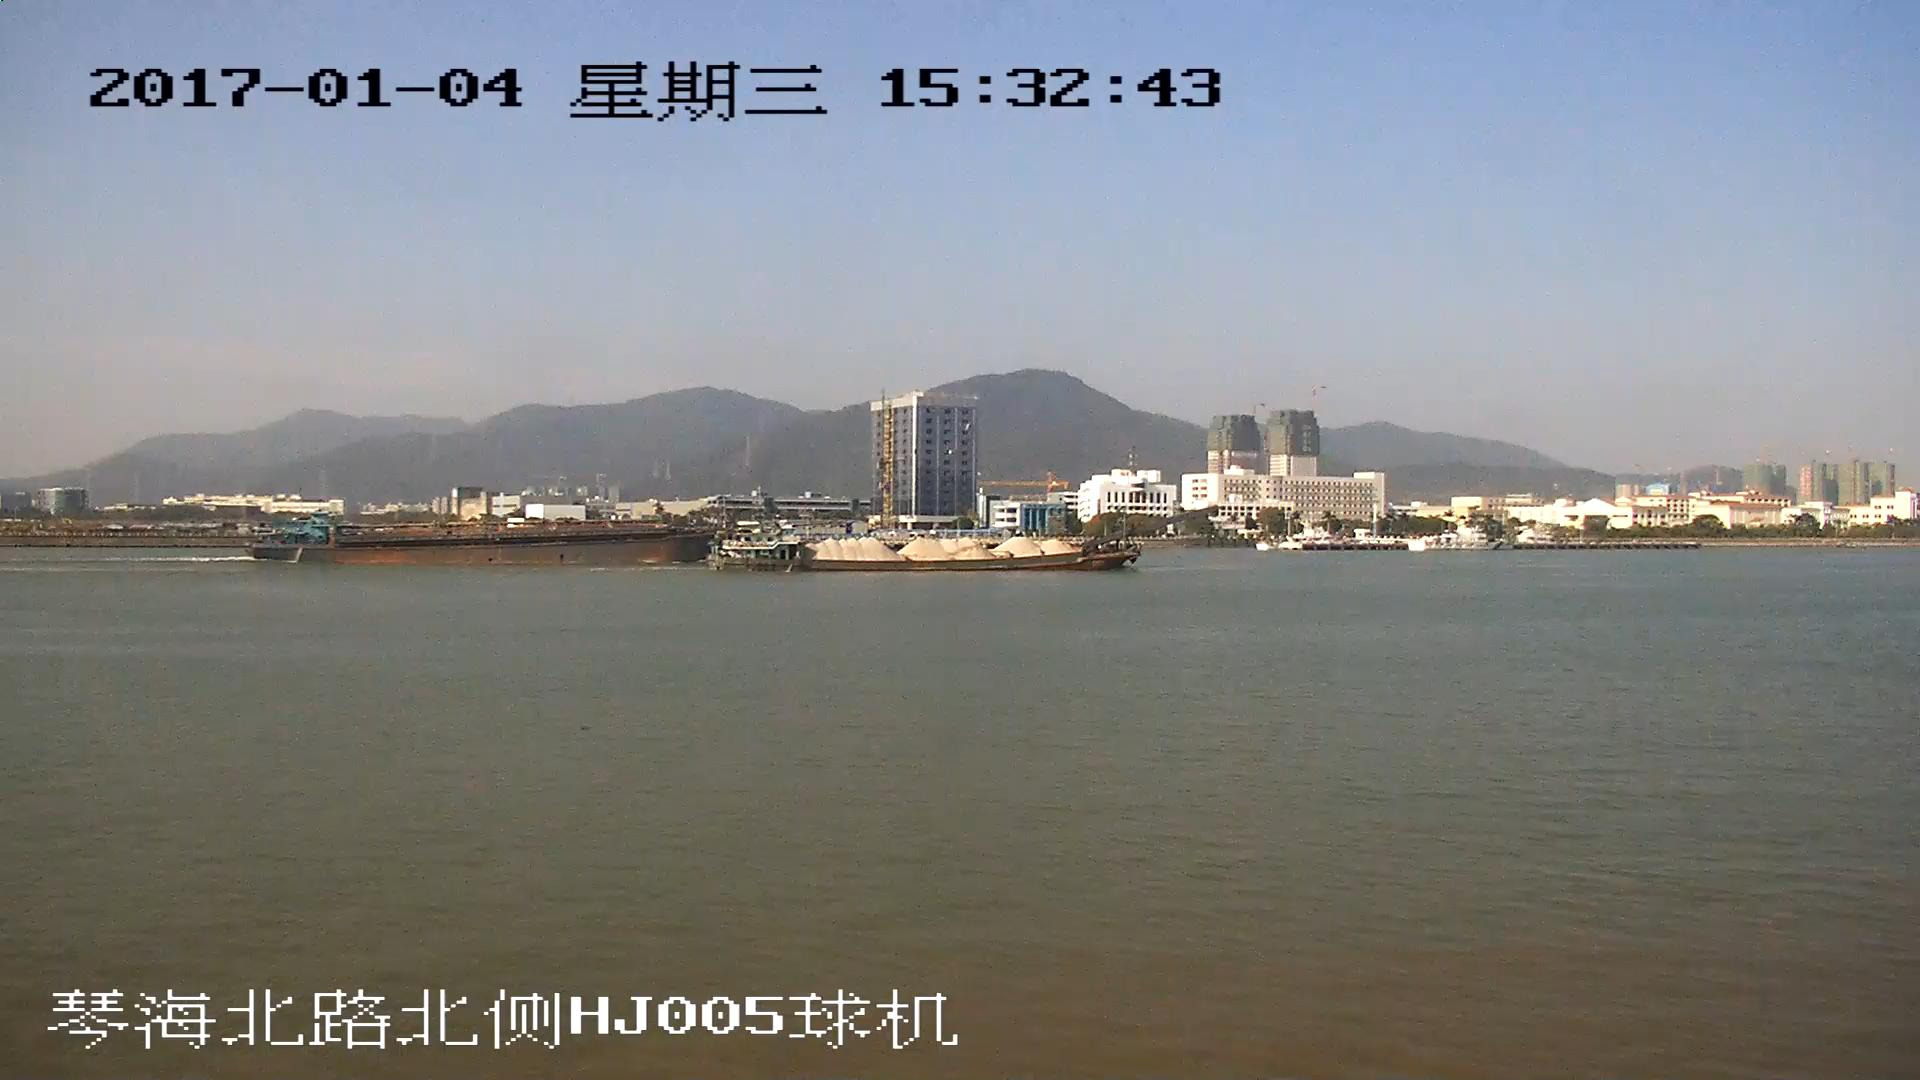bulk cargo carrier: (252, 509, 711, 563)
ore carrier: (723, 508, 1215, 574)
